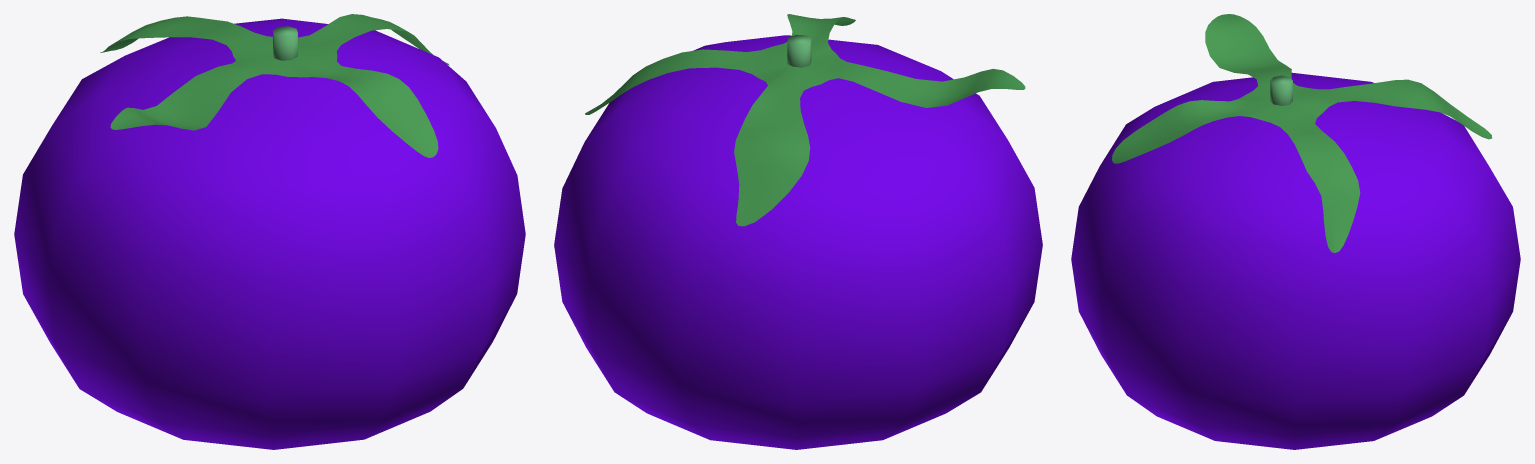
File: tomato_tier2.glb
The picture shows the model from 3 angles, left to right: view 1: azimuth 30°, elevation 25°; view 2: azimuth 150°, elevation 25°; view 3: azimuth 270°, elevation 25°; orthographic projection. The views are drawn at different scales.
Visible parts, largest first — view 1: Sphere.001, Sphere.003, Cylinder.001; view 2: Sphere.001, Sphere.003, Cylinder.001; view 3: Sphere.001, Sphere.003, Cylinder.001.
Boxes of the visible parts, left/top/right/bottom form: Sphere.001: left=14, top=18, right=525, bottom=449; Sphere.003: left=100, top=14, right=449, bottom=157; Cylinder.001: left=273, top=26, right=297, bottom=60; Sphere.001: left=554, top=35, right=1042, bottom=449; Sphere.003: left=585, top=14, right=1025, bottom=226; Cylinder.001: left=787, top=34, right=811, bottom=67; Sphere.001: left=1071, top=72, right=1520, bottom=449; Sphere.003: left=1112, top=14, right=1492, bottom=252; Cylinder.001: left=1270, top=75, right=1292, bottom=105.
Bounding box in the file's own units: 2.58 × 2.16 × 2.58.
